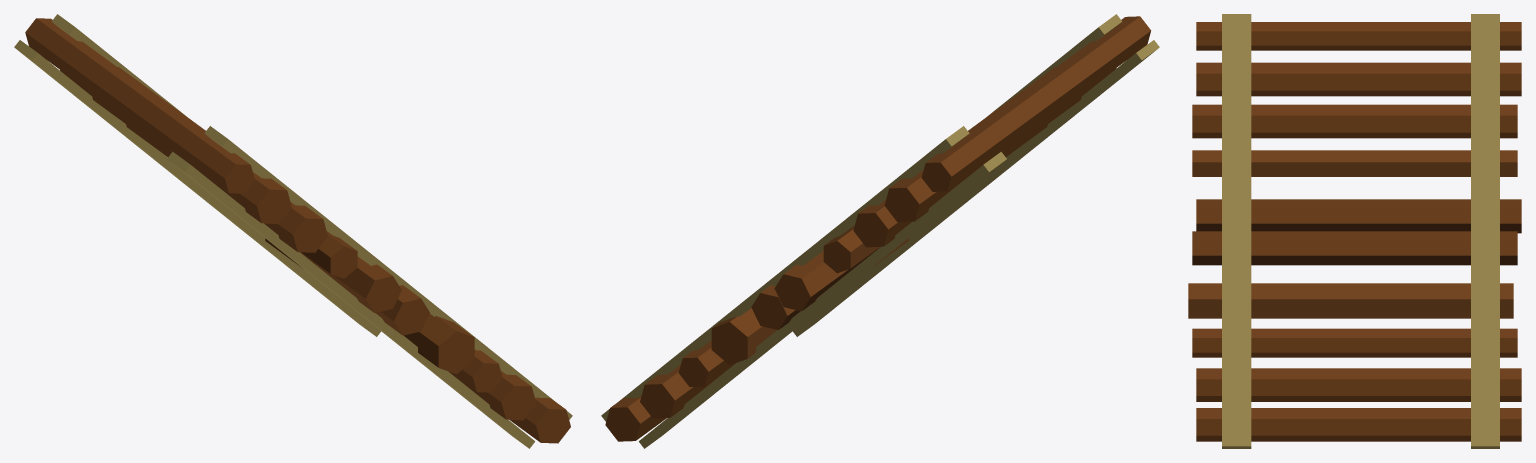
Rendered from Wood Stairs.fbx.
3 views of the same model, side by side, from view 1: azimuth 30°, elevation 25°; view 2: azimuth 150°, elevation 25°; view 3: azimuth 270°, elevation 25° (orthographic). The views are drawn at different scales.
Visible parts, largest first — view 1: Build Stairs; view 2: Build Stairs; view 3: Build Stairs.
Boxes of the visible parts, box(x1,y1,x2,y2) form: Build Stairs: box(14, 14, 572, 448); Build Stairs: box(601, 14, 1159, 448); Build Stairs: box(1188, 14, 1521, 448).
Bounding box in the file's own units: 898 × 848 × 820.
